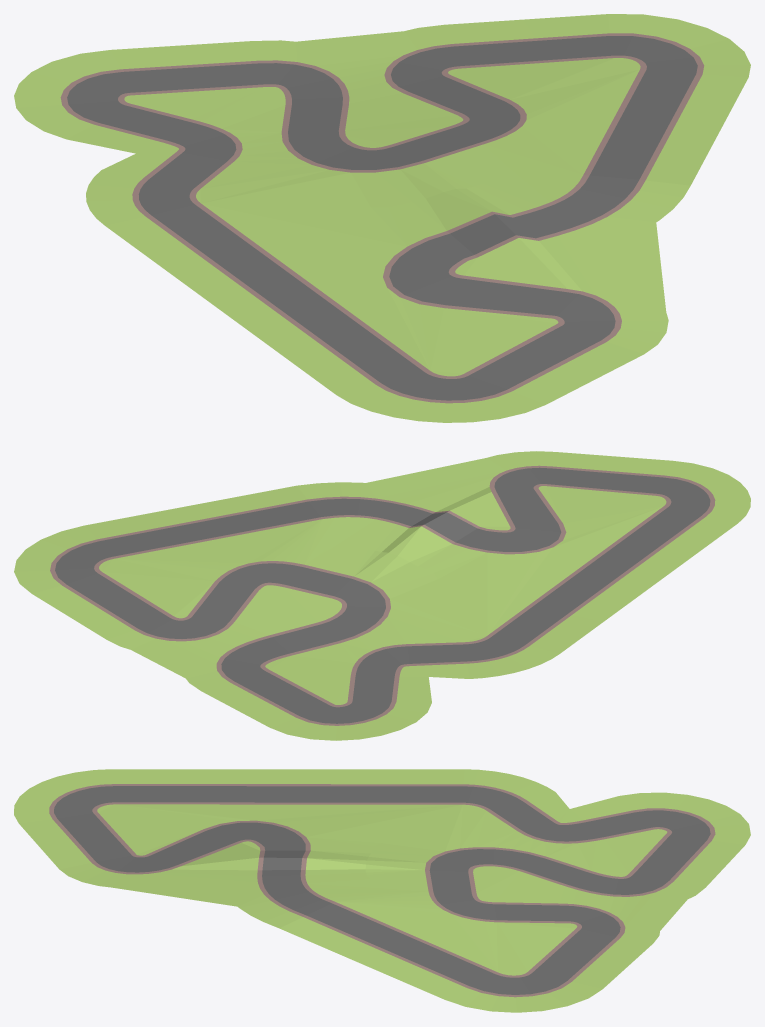
Rendered from sm_racetrack.fbx.
The picture shows the model from 3 angles, top to bottom: view 1: azimuth 30°, elevation 25°; view 2: azimuth 150°, elevation 25°; view 3: azimuth 270°, elevation 25°; orthographic projection. The views are drawn at different scales.
Visible parts, largest first — view 1: sm_racetrack.001; view 2: sm_racetrack.001; view 3: sm_racetrack.001.
Boxes of the visible parts, <box> form: sm_racetrack.001: <box>14,14,750,422</box>; sm_racetrack.001: <box>14,451,750,740</box>; sm_racetrack.001: <box>14,769,750,1012</box>.
Bounding box in the file's own units: 314 × 12.67 × 401.
